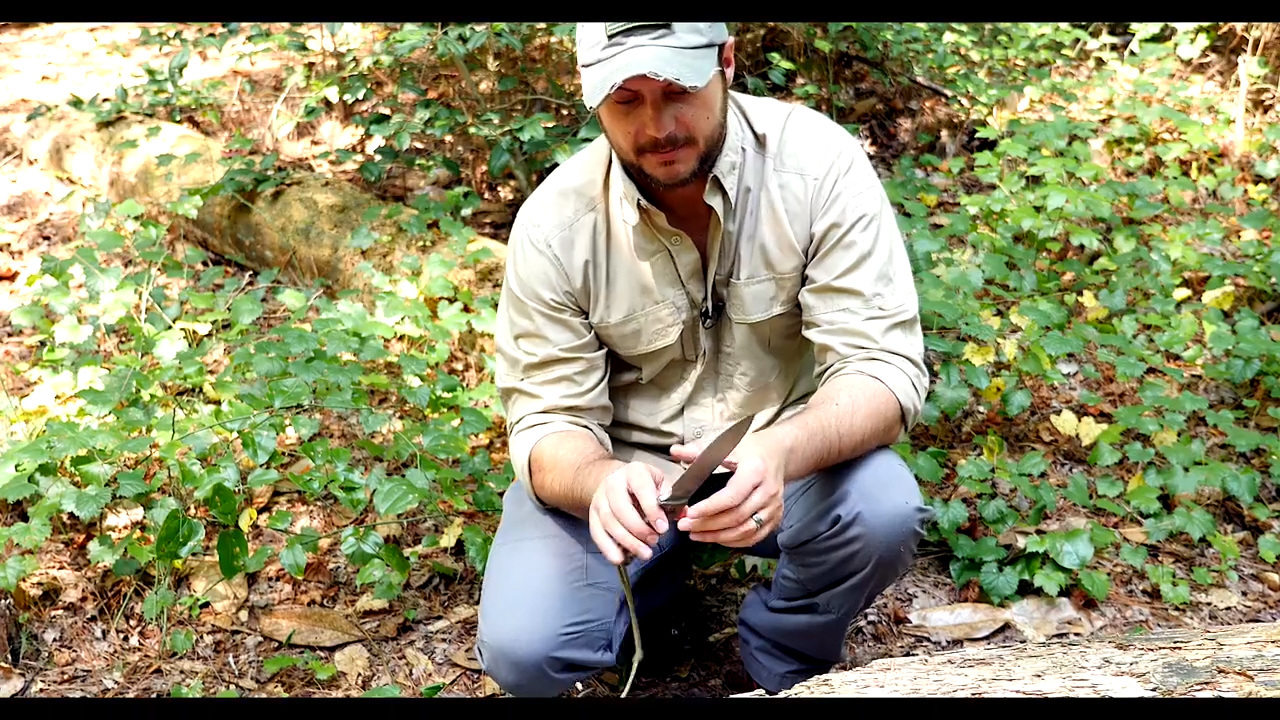knife: (623, 403, 763, 567)
